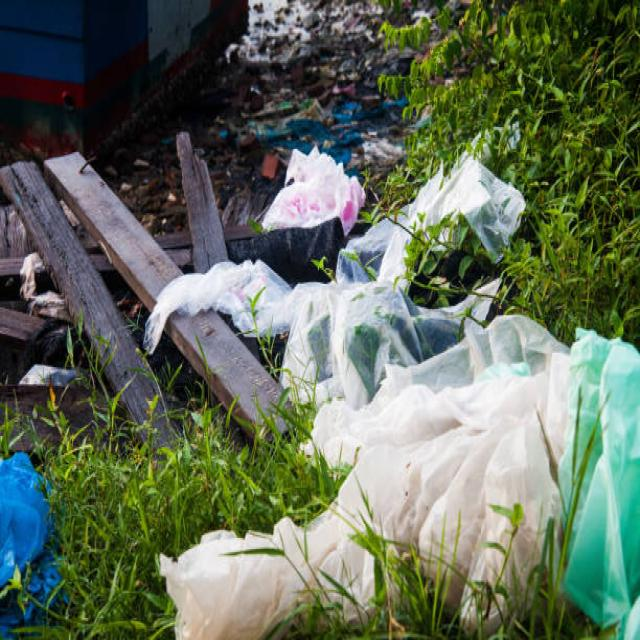plastic: (324, 330, 640, 584)
